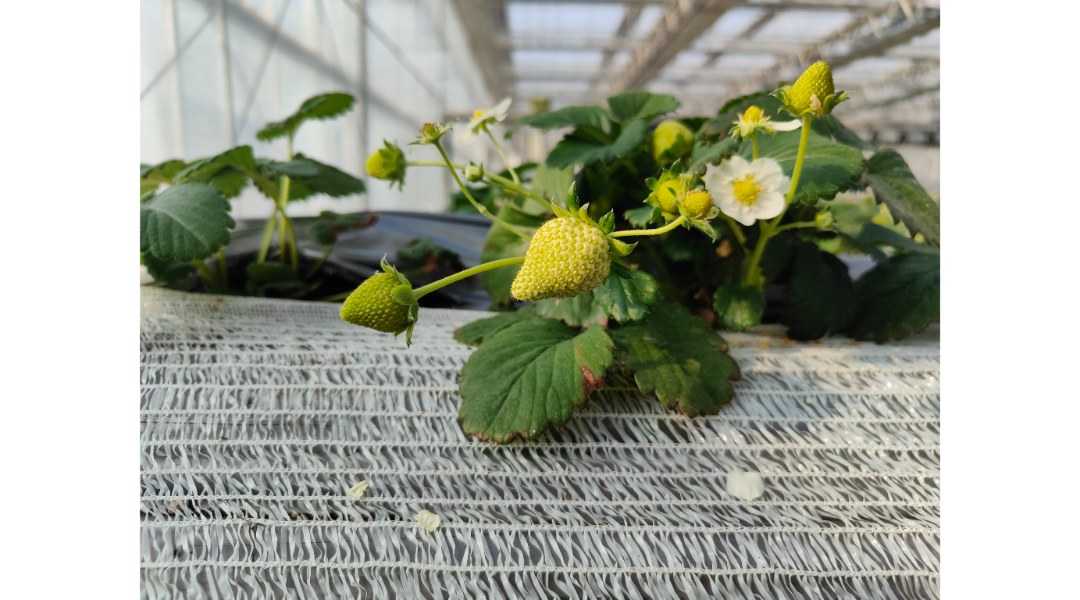berry: (515, 213, 606, 302), (335, 256, 426, 342), (767, 50, 846, 124), (364, 122, 408, 190), (645, 115, 694, 164), (638, 170, 693, 212), (722, 98, 774, 141), (678, 177, 711, 224)
flower: (705, 153, 804, 230), (457, 93, 519, 139)
strain: (414, 254, 537, 298), (787, 110, 829, 204), (470, 190, 525, 241), (618, 224, 670, 241)
